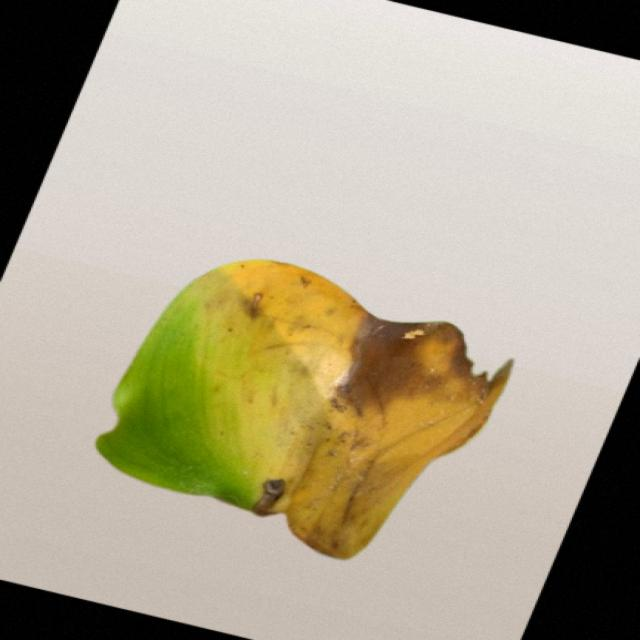daun berpenyakit kuning: (97, 261, 513, 559)
